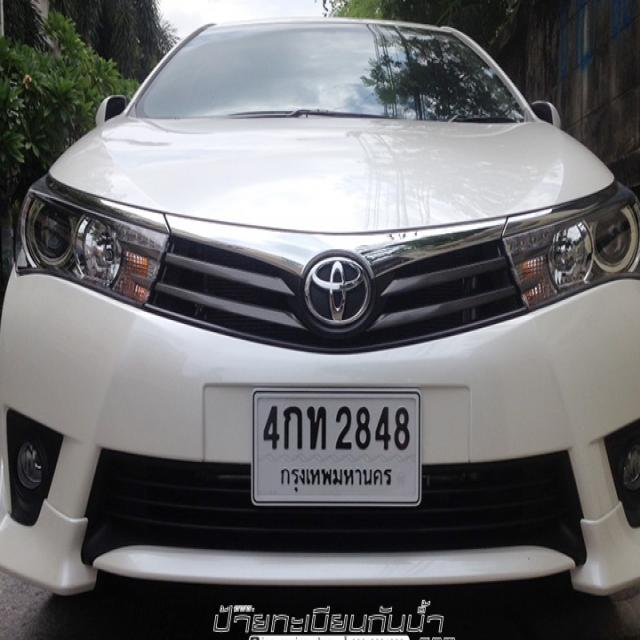license_plate: (252, 387, 422, 509)
